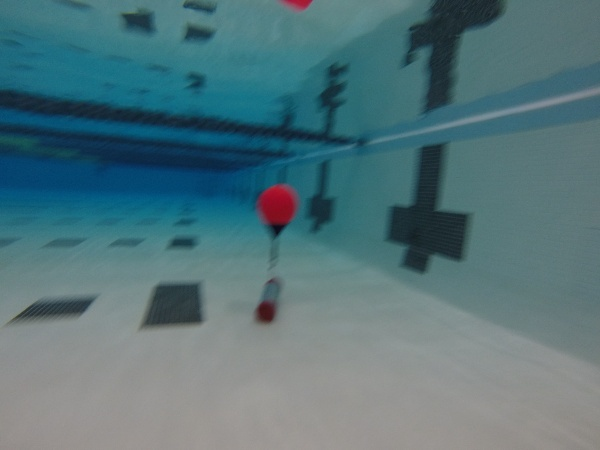buoy_red: (255, 183, 296, 244)
